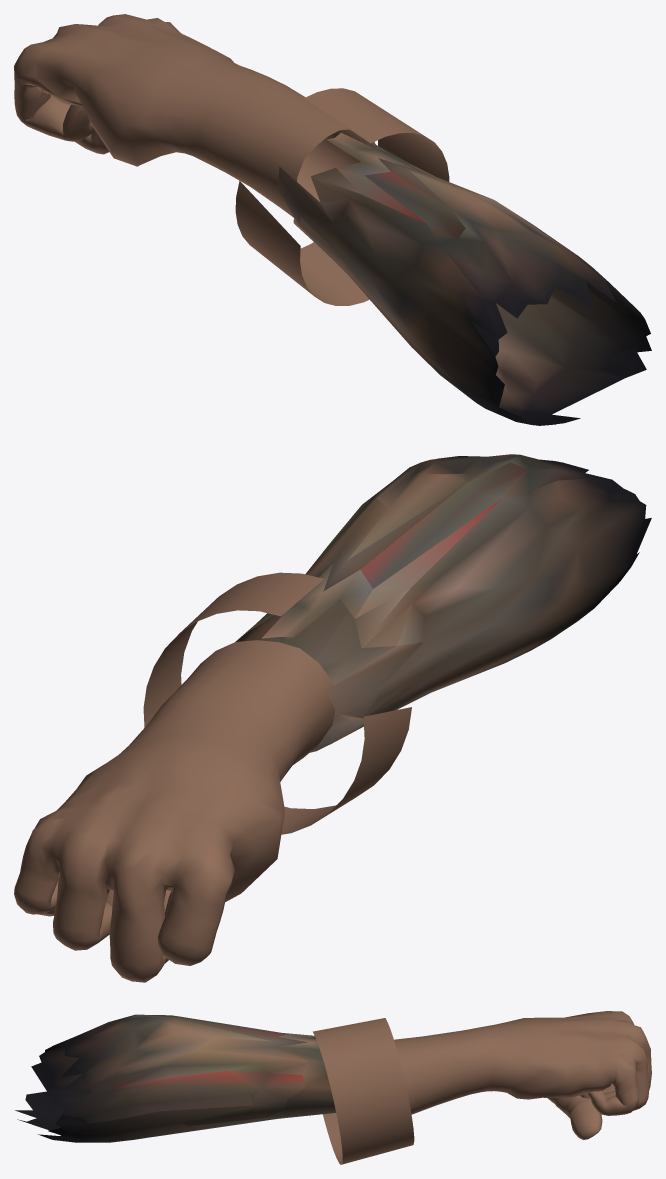
File: antebraco-fusca-v1.glb
The picture shows the model from 3 angles, top to bottom: view 1: azimuth 30°, elevation 25°; view 2: azimuth 150°, elevation 25°; view 3: azimuth 270°, elevation 25°; orthographic projection. The views are drawn at different scales.
Parts seen in each view (by area): view 1: antebraco-cena; view 2: antebraco-cena; view 3: antebraco-cena.
Boxes of the visible parts, box(x1,y1,x2,y2) form: antebraco-cena: box(14, 14, 651, 425); antebraco-cena: box(14, 454, 651, 982); antebraco-cena: box(15, 1011, 651, 1164).
Bounding box in the file's own units: 0.14 × 0.1055 × 0.4603.
